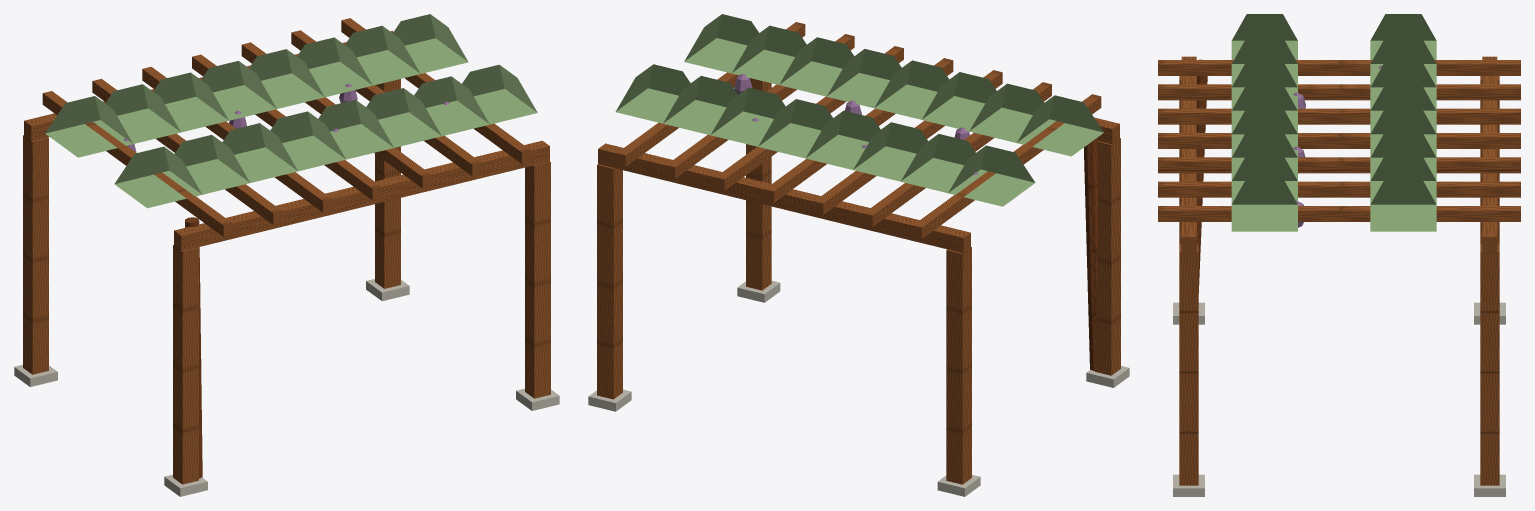
The model's file is pergola-with-vine.glb.
The picture shows the model from 3 angles, left to right: view 1: azimuth 30°, elevation 25°; view 2: azimuth 150°, elevation 25°; view 3: azimuth 270°, elevation 25°; orthographic projection.
Visible parts, largest first — view 1: pergola-with-vine-leaf, pergola-with-vine-timber, pergola-with-vine-stone, pergola-with-vine-oak; view 2: pergola-with-vine-leaf, pergola-with-vine-timber, pergola-with-vine-oak, pergola-with-vine-stone, pergola-with-vine-grape; view 3: pergola-with-vine-timber, pergola-with-vine-leaf, pergola-with-vine-stone, pergola-with-vine-oak.
Part boxes in pixels (<box>): pergola-with-vine-leaf: <box>45,14,537,208</box>; pergola-with-vine-timber: <box>23,18,550,484</box>; pergola-with-vine-stone: <box>14,279,559,496</box>; pergola-with-vine-oak: <box>185,217,202,478</box>; pergola-with-vine-leaf: <box>615,14,1103,206</box>; pergola-with-vine-timber: <box>597,22,1120,484</box>; pergola-with-vine-oak: <box>1084,120,1097,370</box>; pergola-with-vine-stone: <box>588,280,1129,496</box>; pergola-with-vine-grape: <box>734,74,978,174</box>; pergola-with-vine-timber: <box>1158,56,1520,485</box>; pergola-with-vine-leaf: <box>1231,14,1436,231</box>; pergola-with-vine-stone: <box>1173,302,1505,496</box>; pergola-with-vine-oak: <box>1196,59,1207,293</box>.
Size of the model in its own units: 4.24 by 3.12 by 3.4.
Materials: 5 (3 with a texture image).
